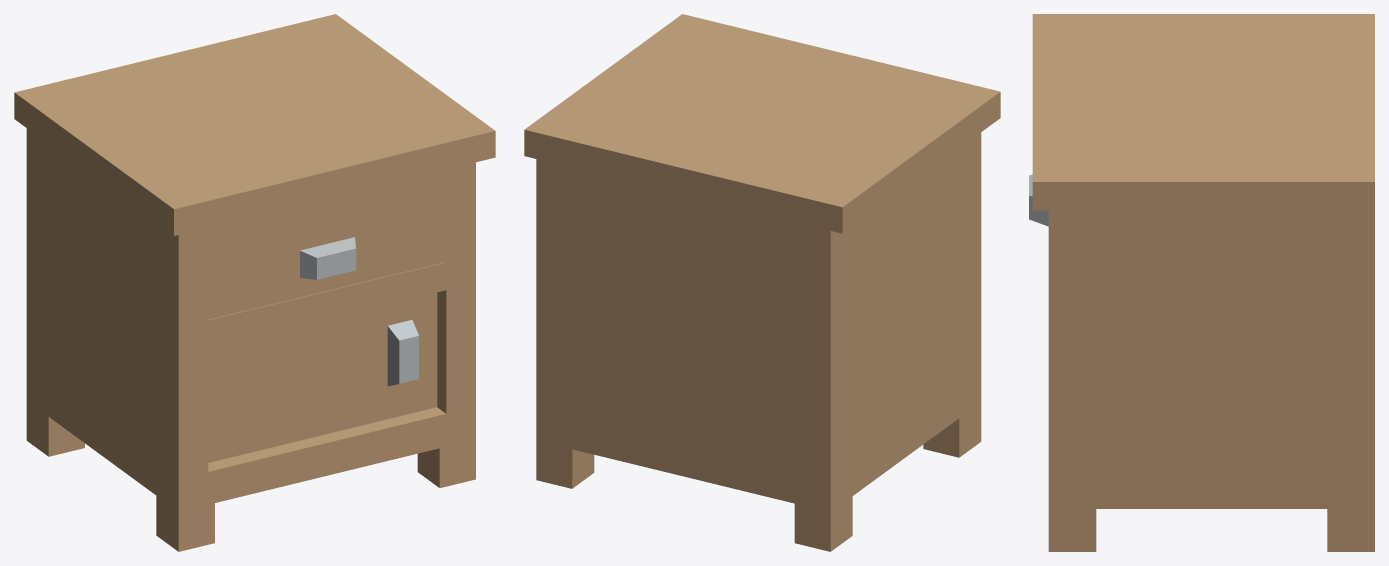
Rendered from nightstand-drawer.glb.
3 renders of one model, left to right at view 1: azimuth 30°, elevation 25°; view 2: azimuth 150°, elevation 25°; view 3: azimuth 270°, elevation 25°, orthographic. The views are drawn at different scales.
Parts seen in each view (by area): view 1: nightstand-drawer; view 2: nightstand-drawer; view 3: nightstand-drawer.
Boxes of the visible parts, left/top/right/bottom form: nightstand-drawer: left=14, top=14, right=495, bottom=551; nightstand-drawer: left=524, top=14, right=1000, bottom=551; nightstand-drawer: left=1029, top=14, right=1374, bottom=551.
Size of the model in its own units: 0.46 by 0.48 by 0.4.
